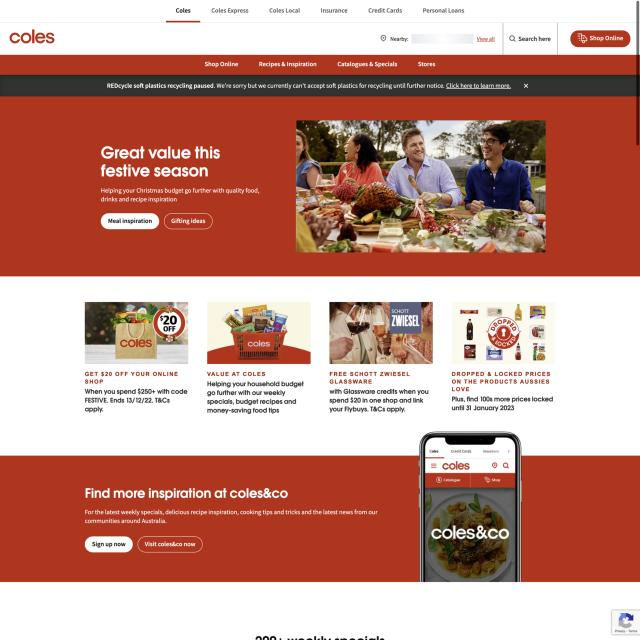logo: (7, 25, 59, 46)
navigation: (0, 0, 636, 24), (0, 54, 636, 76)
